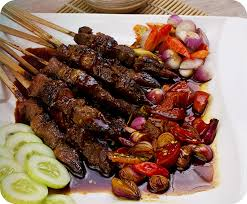Sate ayam/100g: (0, 6, 188, 179)
